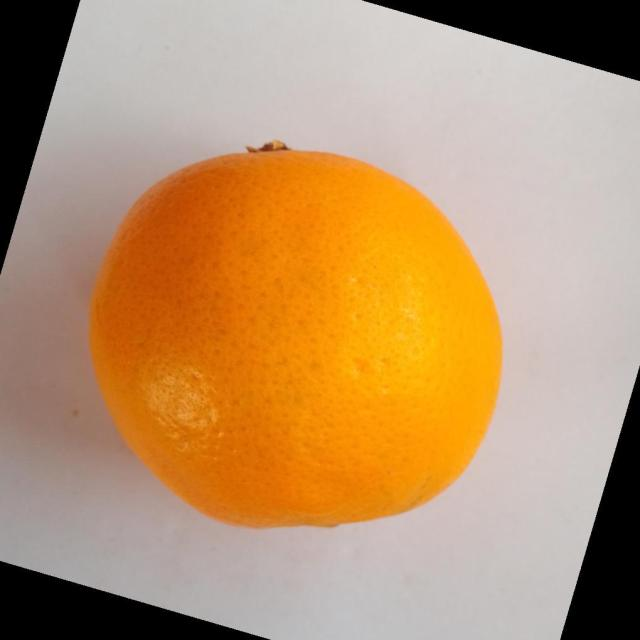fresh orange: (86, 138, 504, 530)
